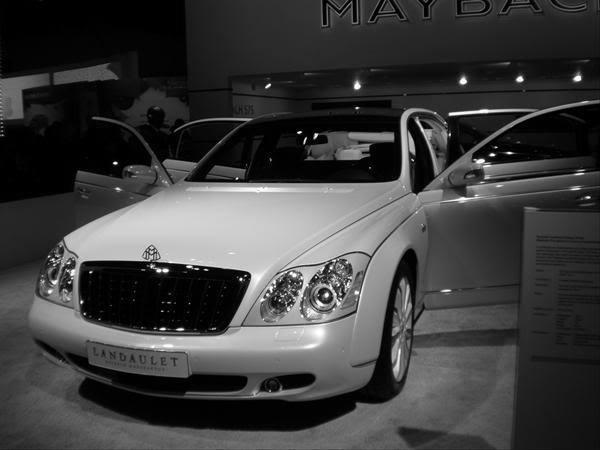car: (31, 97, 600, 402)
